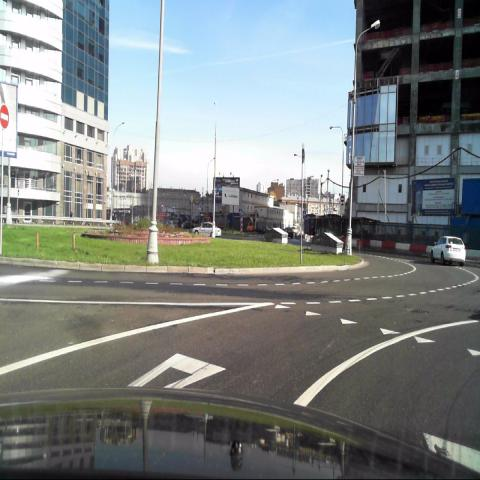3_1: (0, 103, 10, 129)
